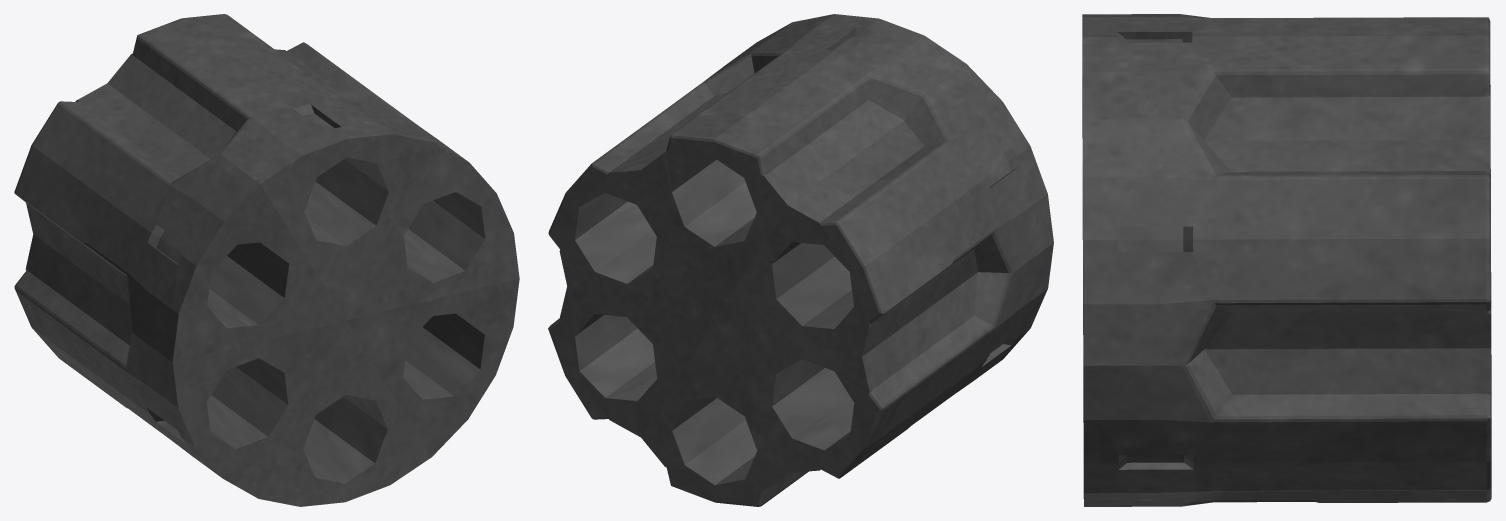
File: GunCylinder.fbx
3 renders of one model, left to right at view 1: azimuth 30°, elevation 25°; view 2: azimuth 150°, elevation 25°; view 3: azimuth 270°, elevation 25°, orthographic. The views are drawn at different scales.
Parts seen in each view (by area): view 1: Gun_Cylidner; view 2: Gun_Cylidner; view 3: Gun_Cylidner.
Boxes of the visible parts, box(x1,y1,x2,y2) form: Gun_Cylidner: box(14, 14, 519, 506); Gun_Cylidner: box(548, 14, 1053, 506); Gun_Cylidner: box(1082, 14, 1491, 506).
Bounding box in the file's own units: 545 × 546 × 452.
1 material, 1 textured.
